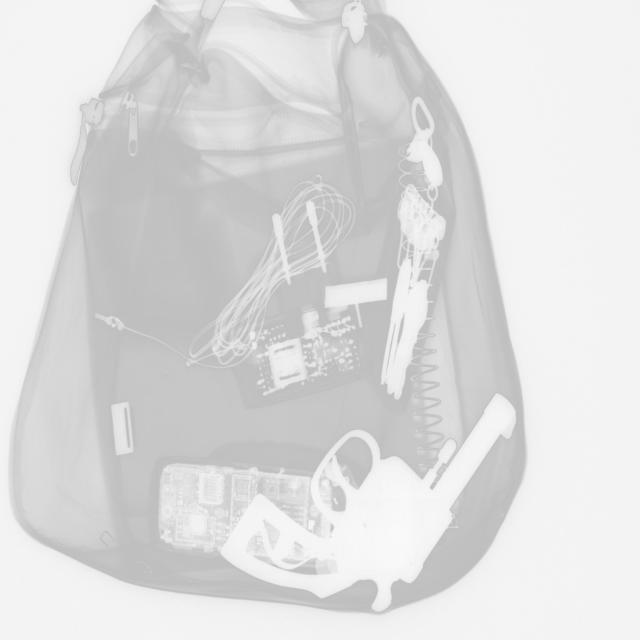pistol: (223, 393, 517, 614)
